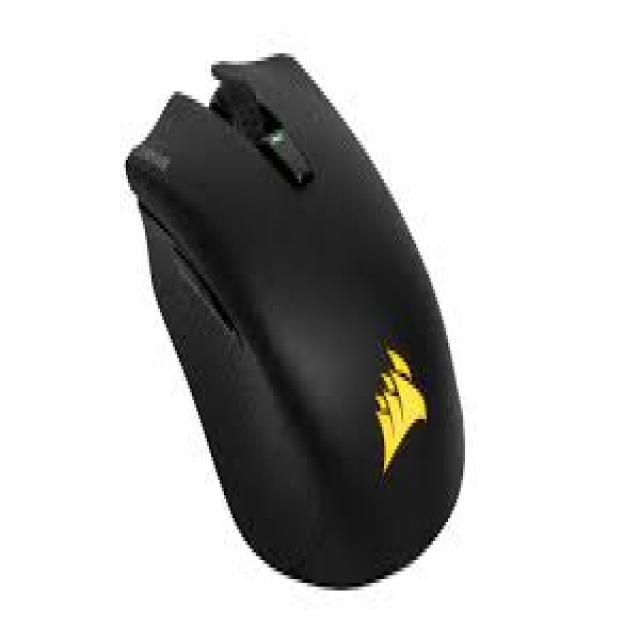others: (126, 15, 486, 606)
